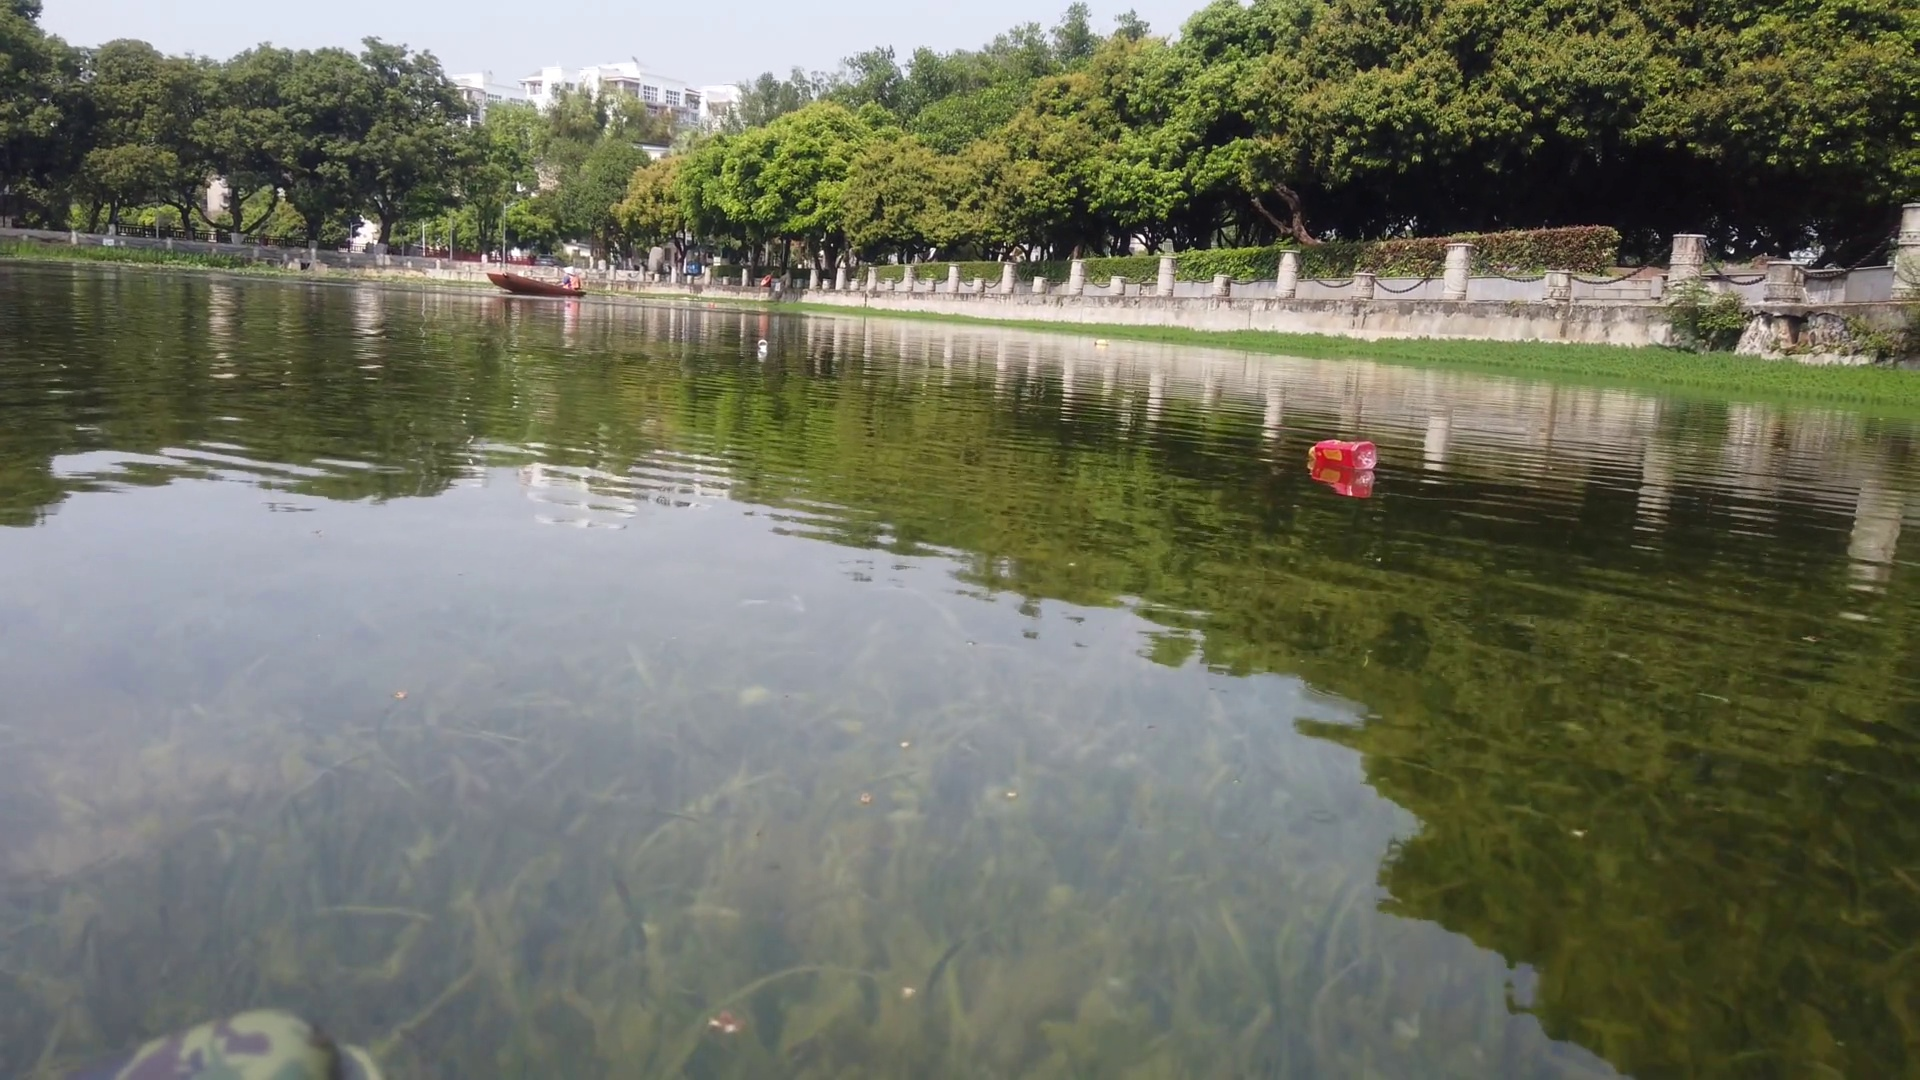bottle: (1305, 438, 1383, 473), (1091, 335, 1108, 345), (758, 338, 769, 349)
